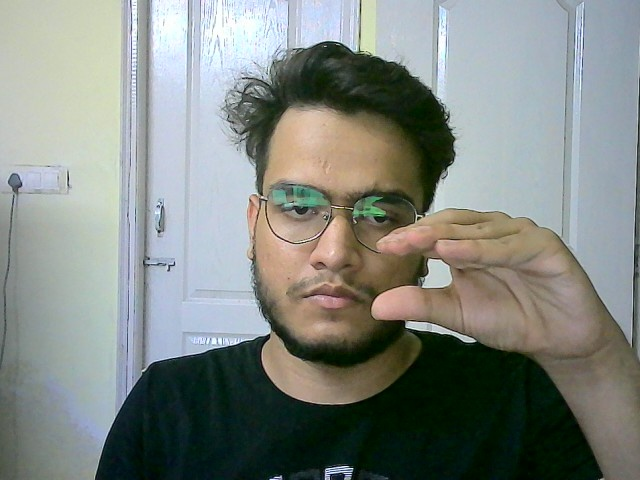No: (370, 206, 609, 353)
